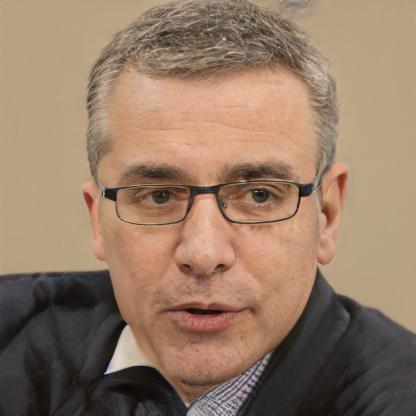glasses: (98, 180, 321, 226)
